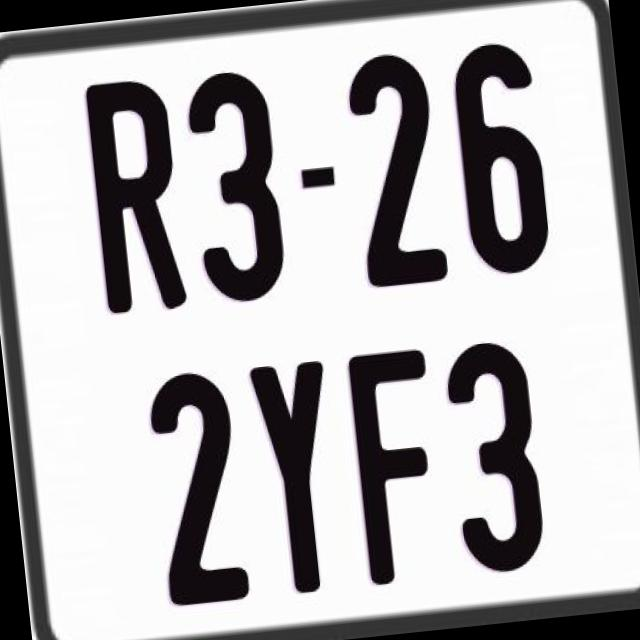2: (343, 50, 455, 288), (146, 365, 252, 611)
3: (444, 336, 550, 572), (180, 69, 284, 308)
6: (446, 36, 554, 277)
F: (347, 348, 452, 586)
R: (82, 77, 192, 325)
Y: (247, 356, 349, 594)
